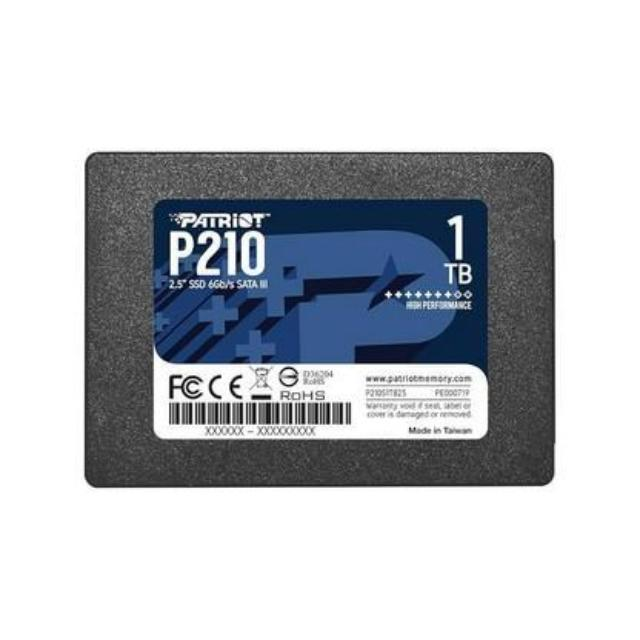DISK: (76, 147, 564, 496)
